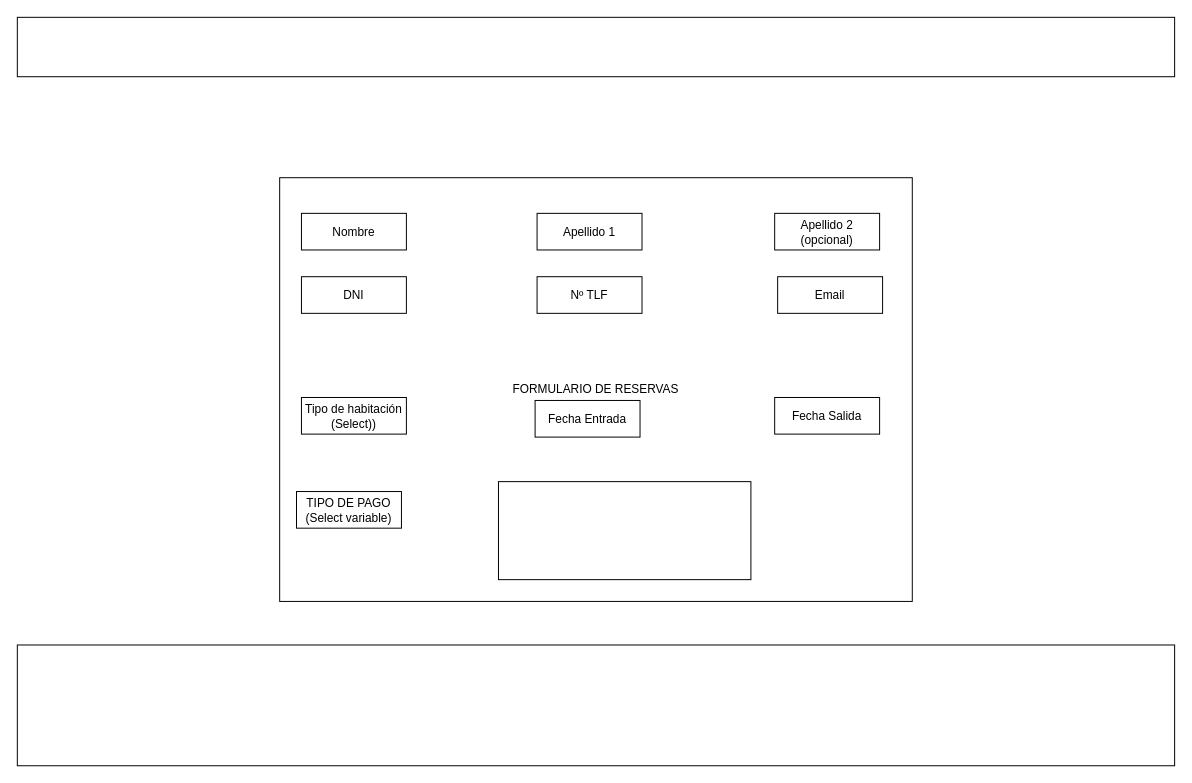
The diagram is 1192 pixels wide and 783 high, and some of its shapes have lost their labels. The shapes that lost their labels are listed below. From the top down, each one's box as (x1, y1, x2, y2) in pixels, then its label:
(16, 16, 1175, 77): NAV BAR DE ARRIBA
(497, 481, 751, 580): OPCIONES DE PAGO DEPENDIENDO DEL METODO DE PAGO
(16, 644, 1175, 766): FOOTER
